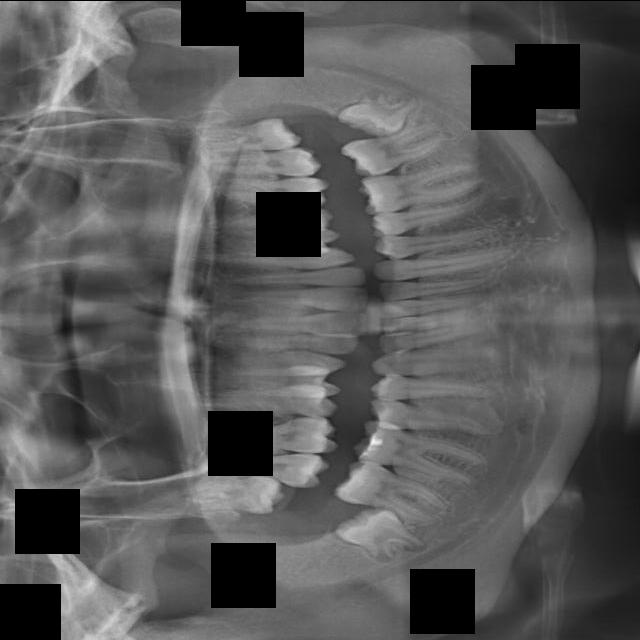3M ESPE Implant: (184, 476, 286, 514)
AGS Medikal Implant: (337, 116, 456, 183)
AMerOss Implant: (354, 157, 487, 217)
Amalgam filling: (213, 452, 330, 489)
Anthogyr Implant: (367, 184, 500, 241)
Bicon Implant: (372, 222, 504, 262)
BioHorizons Implant: (370, 243, 520, 284)
BioLife Implant: (377, 269, 500, 301)
Biomet 3i Implant: (375, 292, 481, 319)
Blue Sky Bio Implant: (378, 303, 484, 336)
Camlog Implant: (376, 315, 495, 355)
Caries: (220, 265, 368, 287)
Composite filling: (370, 342, 519, 379)
Cowellmedi Implant: (369, 375, 495, 400)
Crown: (364, 394, 491, 446)
DENTSPLY Implant: (213, 413, 339, 461)
Dentatus Implant: (349, 417, 487, 492)
Dentis Implant: (330, 454, 460, 532)
Dentium Implant: (331, 491, 431, 579)
Euroteknika Implant: (199, 393, 339, 417)
Filling: (222, 371, 341, 394)
Frontier Implant: (213, 352, 347, 373)
Hiossen Implant: (199, 246, 356, 271)
Implant: (222, 309, 369, 336)
Implant Direct: (231, 331, 359, 355)
Keystone Dental Implant: (231, 287, 370, 311)
MIS Implant: (208, 229, 342, 248)
Mandible: (216, 208, 333, 229)
Maxilla: (217, 175, 330, 210)
Megagen Implant: (205, 145, 323, 182)
Neodent Implant: (191, 115, 303, 157)
Neoss Implant: (334, 81, 420, 141)
